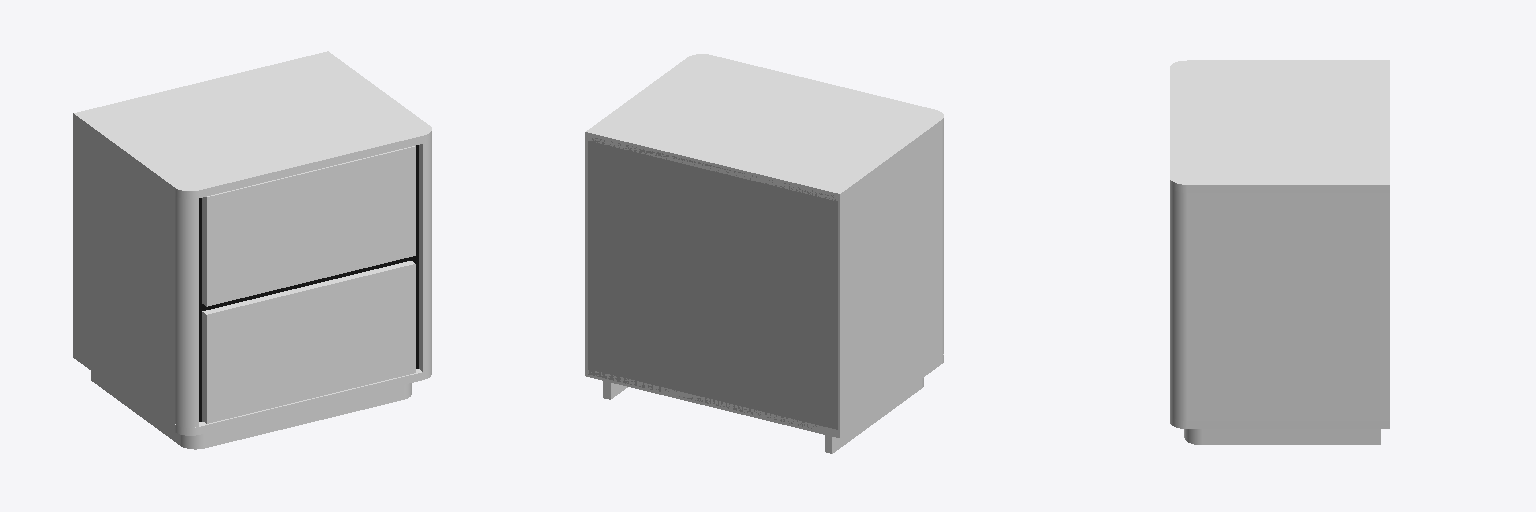
3 views of the same model, side by side, from view 1: azimuth 30°, elevation 25°; view 2: azimuth 150°, elevation 25°; view 3: azimuth 270°, elevation 25° (orthographic).
Visible parts, largest first — view 1: 5_Крышка тумбы, 2_Бок тумбы, 27_Фасад, 39_Фасад, 6_Дно тумбы, 11_Цокль, 3_Бок тумбы 20мм, 1_Бок тумбы 20мм, 8_Бок цоколя, 14_Цайга межфасадная, 13_Внутренний бок тумбы, 12_Внутренний бок тумбы; view 2: 15_ДВП, 5_Крышка тумбы, 2_Бок тумбы, 6_Дно тумбы, 8_Бок цоколя, 4_Бок тумбы; view 3: 4_Бок тумбы, 5_Крышка тумбы, 10_Бок цоколя, 6_Дно тумбы.
Part boxes in pixels (left/top/right/bottom): 5_Крышка тумбы: left=73, top=51, right=431, bottom=198; 2_Бок тумбы: left=73, top=121, right=189, bottom=427; 27_Фасад: left=202, top=261, right=415, bottom=423; 39_Фасад: left=202, top=146, right=415, bottom=306; 6_Дно тумбы: left=73, top=350, right=431, bottom=435; 11_Цокль: left=204, top=385, right=402, bottom=448; 3_Бок тумбы 20мм: left=419, top=141, right=429, bottom=371; 1_Бок тумбы 20мм: left=190, top=199, right=198, bottom=427; 8_Бок цоколя: left=91, top=371, right=195, bottom=449; 14_Цайга межфасадная: left=202, top=257, right=410, bottom=310; 13_Внутренний бок тумбы: left=411, top=145, right=418, bottom=368; 12_Внутренний бок тумбы: left=199, top=198, right=201, bottom=421; 15_ДВП: left=588, top=138, right=837, bottom=429; 5_Крышка тумбы: left=585, top=54, right=943, bottom=201; 2_Бок тумбы: left=838, top=126, right=943, bottom=429; 6_Дно тумбы: left=585, top=354, right=943, bottom=437; 8_Бок цоколя: left=825, top=378, right=923, bottom=453; 4_Бок тумбы: left=585, top=140, right=587, bottom=368; 4_Бок тумбы: left=1172, top=189, right=1389, bottom=420; 5_Крышка тумбы: left=1170, top=60, right=1389, bottom=192; 10_Бок цоколя: left=1187, top=429, right=1380, bottom=444; 6_Дно тумбы: left=1170, top=416, right=1389, bottom=428.
Bounding box in the file's own units: 0.6 × 0.6 × 0.4502.
5 materials, 5 textured.